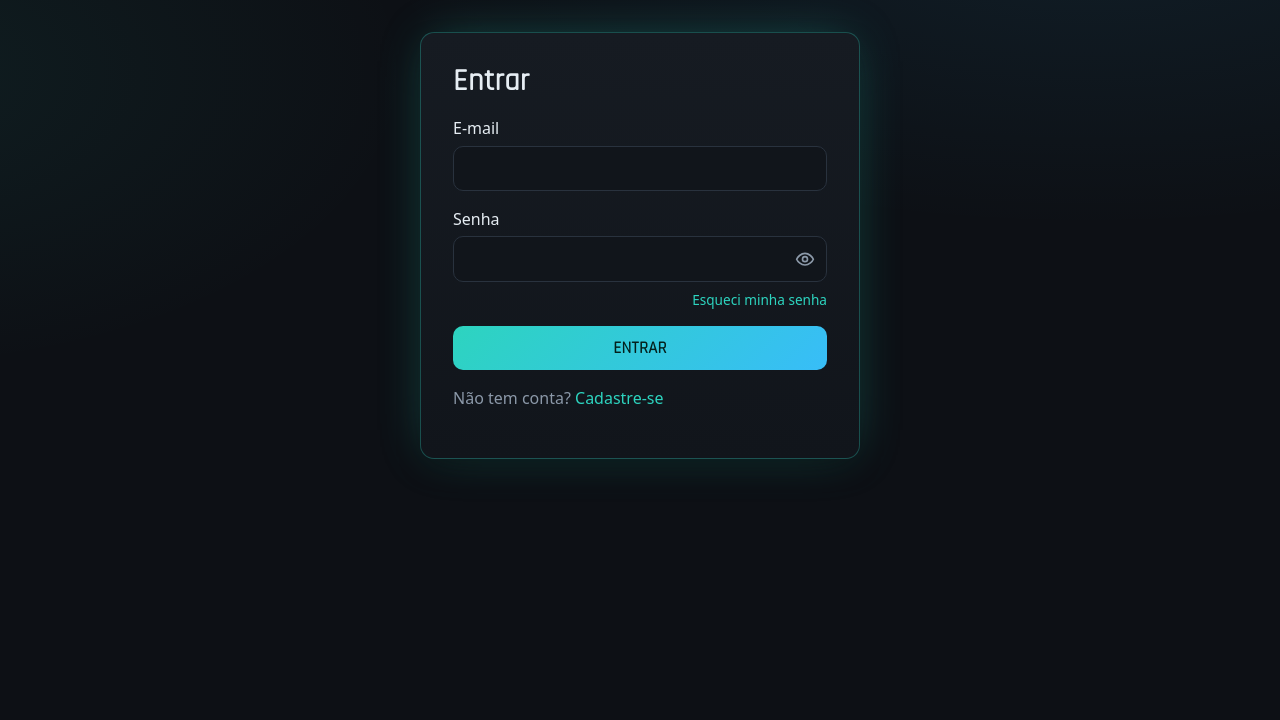
Test: login › conta não confirmada: mostra aviso e botão de reenvio
Type "ana@teste.com" into the field labelled "E-mail" at (640, 168), box 453,146 -> 827,191
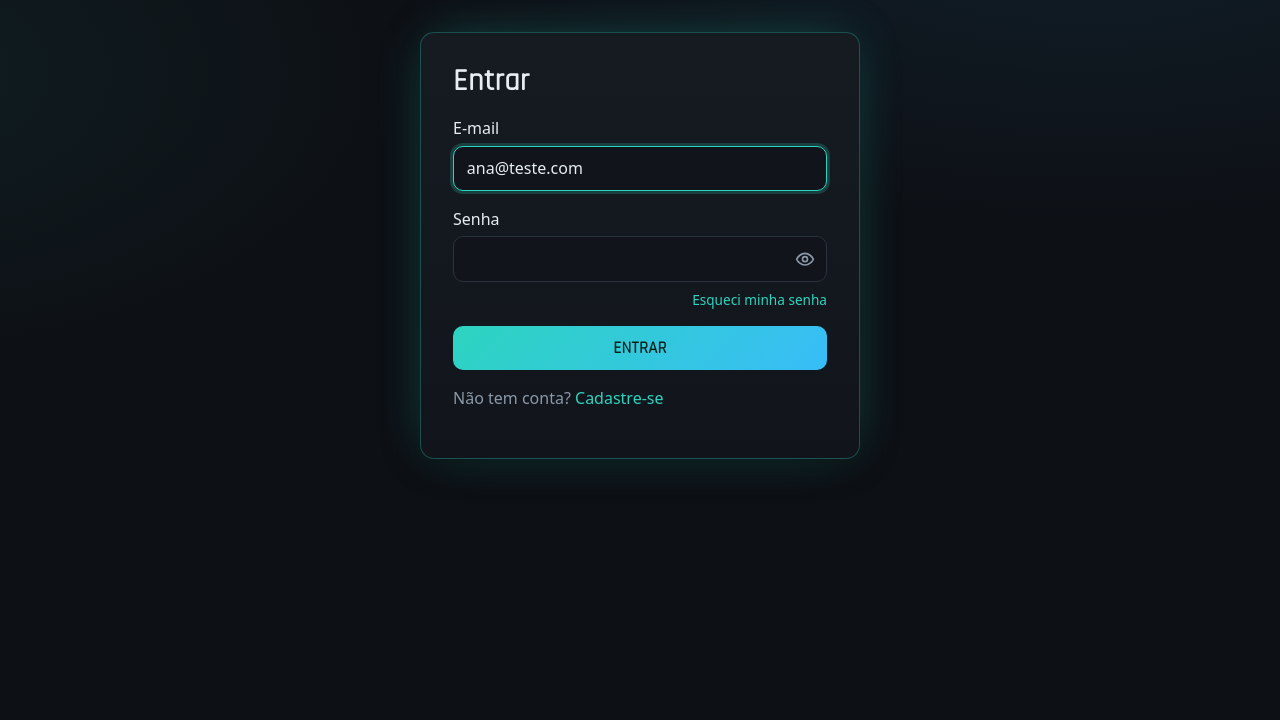
Type "senhaForte123" into the password field labelled "Senha" at (640, 259), box 453,236 -> 827,282
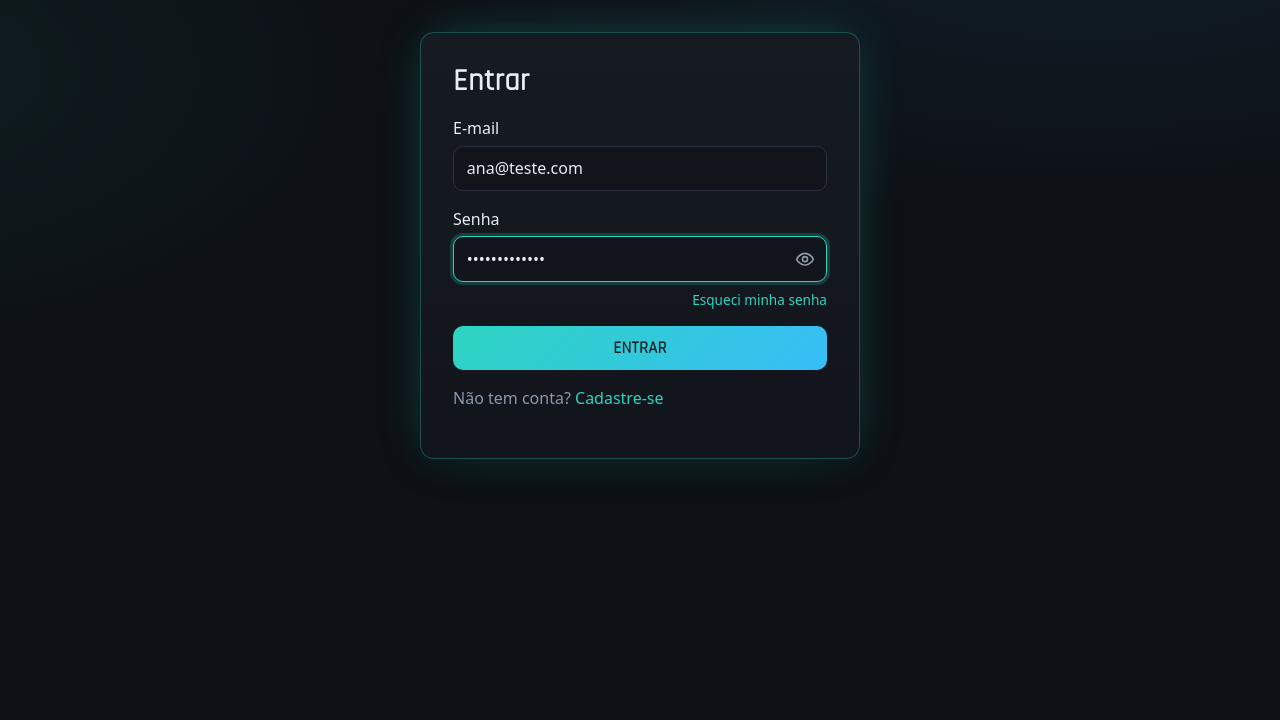
Click the button "Entrar" at (640, 348), box 453,326 -> 827,370
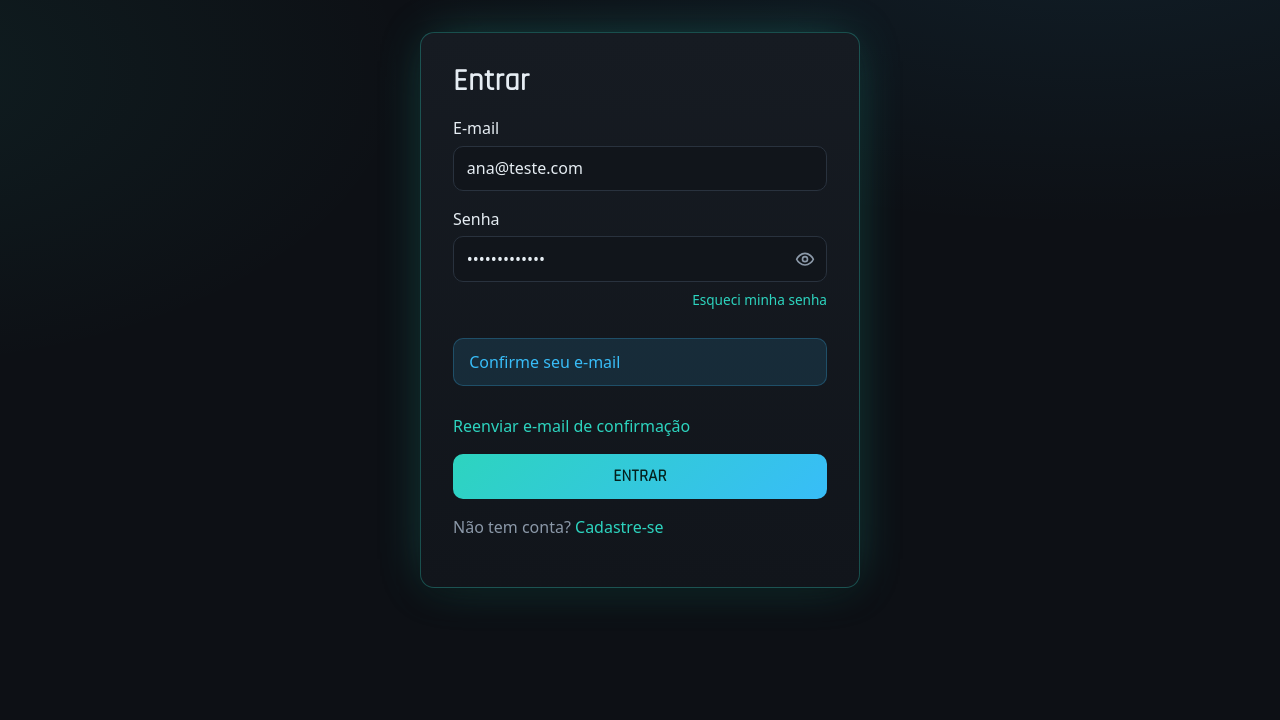
Check: the text "Confirme seu e-mail" is shown, box 453,338 -> 827,386
Check: the button "Reenviar e-mail de confirmação" is shown, box 453,414 -> 690,438
